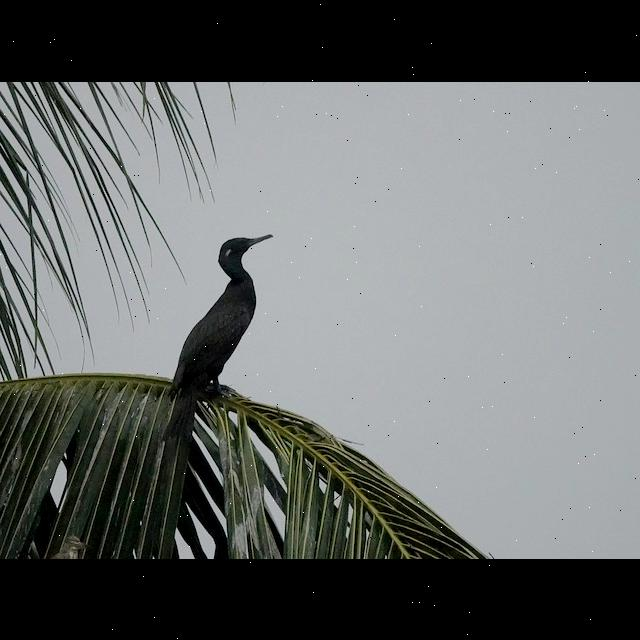cormorant: (158, 226, 276, 438)
